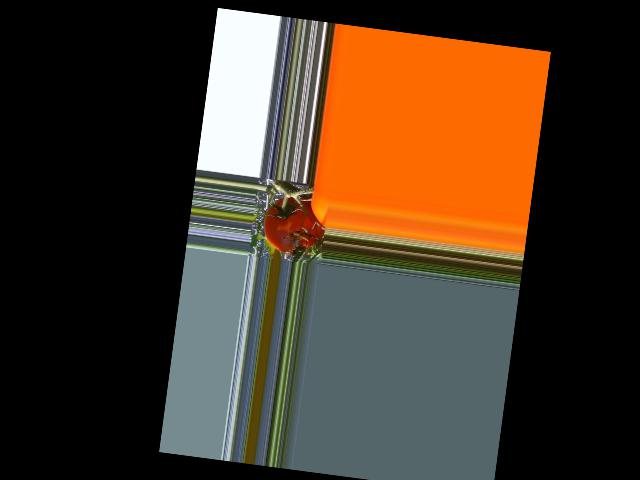tomato: (260, 193, 327, 258)
